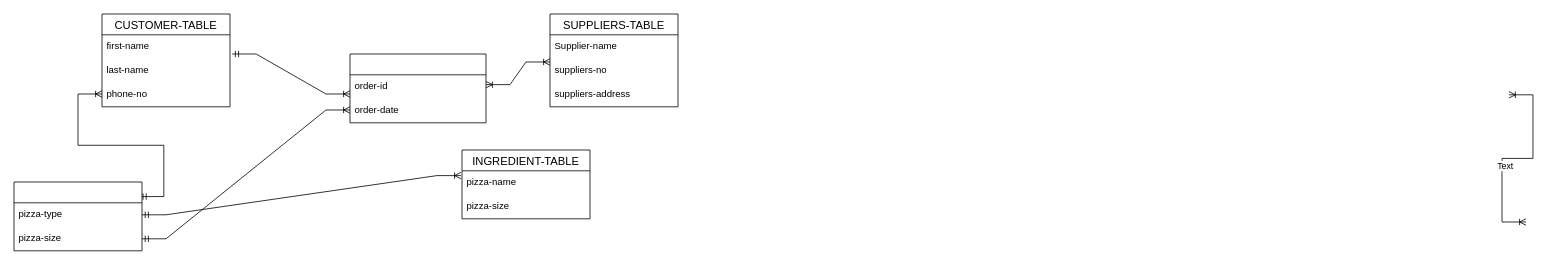
Image size: 1554x267. Some labels were removed from this diagram. The box of each missing label's shape, as (x1, y1, x2, y2) in pixels:
ORDER-TABLE: (349, 53, 486, 123)
PIZZA-TABLE: (13, 181, 142, 251)
